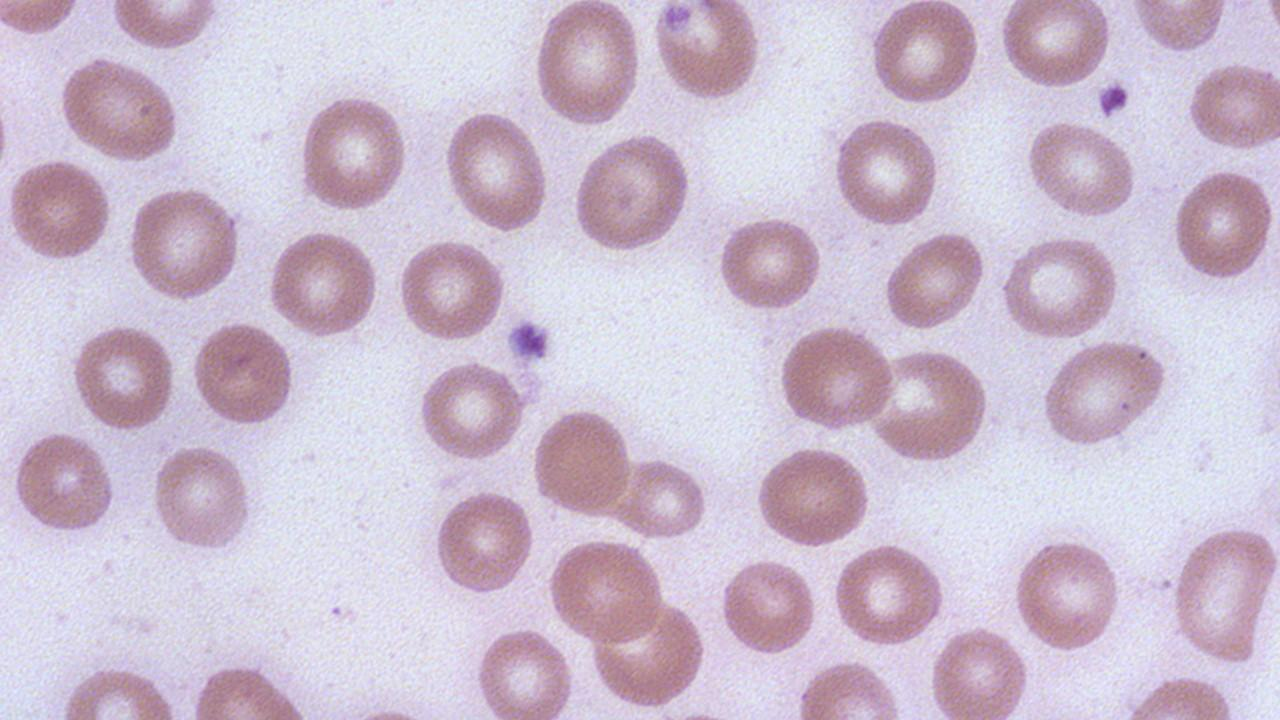Platelets: (505, 314, 552, 366)
RBC: (1167, 522, 1279, 666), (570, 131, 694, 256), (866, 346, 992, 466), (1039, 335, 1171, 449), (529, 0, 644, 130), (123, 182, 245, 304), (295, 89, 411, 215), (440, 106, 551, 236), (54, 54, 183, 164), (998, 232, 1125, 342), (1011, 534, 1125, 654), (828, 114, 944, 230), (590, 597, 708, 709), (264, 227, 383, 338), (774, 324, 896, 432), (1168, 165, 1278, 284), (545, 536, 666, 644), (752, 444, 874, 550), (68, 321, 180, 433), (395, 235, 510, 344), (830, 542, 948, 648), (1022, 118, 1141, 222), (867, 1, 983, 107), (650, 1, 766, 106), (149, 442, 256, 555), (188, 320, 298, 428), (529, 406, 633, 520), (414, 360, 530, 462), (430, 486, 536, 597), (10, 428, 118, 536), (6, 157, 115, 264), (880, 228, 988, 333), (716, 213, 826, 315), (998, 2, 1115, 93), (718, 555, 820, 658), (926, 622, 1032, 718), (471, 622, 579, 716), (1183, 60, 1280, 154), (612, 455, 712, 539), (56, 662, 182, 720), (188, 661, 313, 718), (792, 656, 906, 718), (109, 2, 223, 54), (1119, 672, 1243, 718), (1128, 1, 1228, 56), (0, 0, 86, 38)
